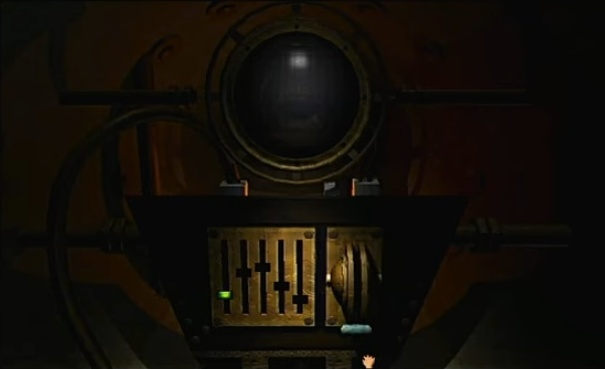Hold: (357, 351, 379, 369)
